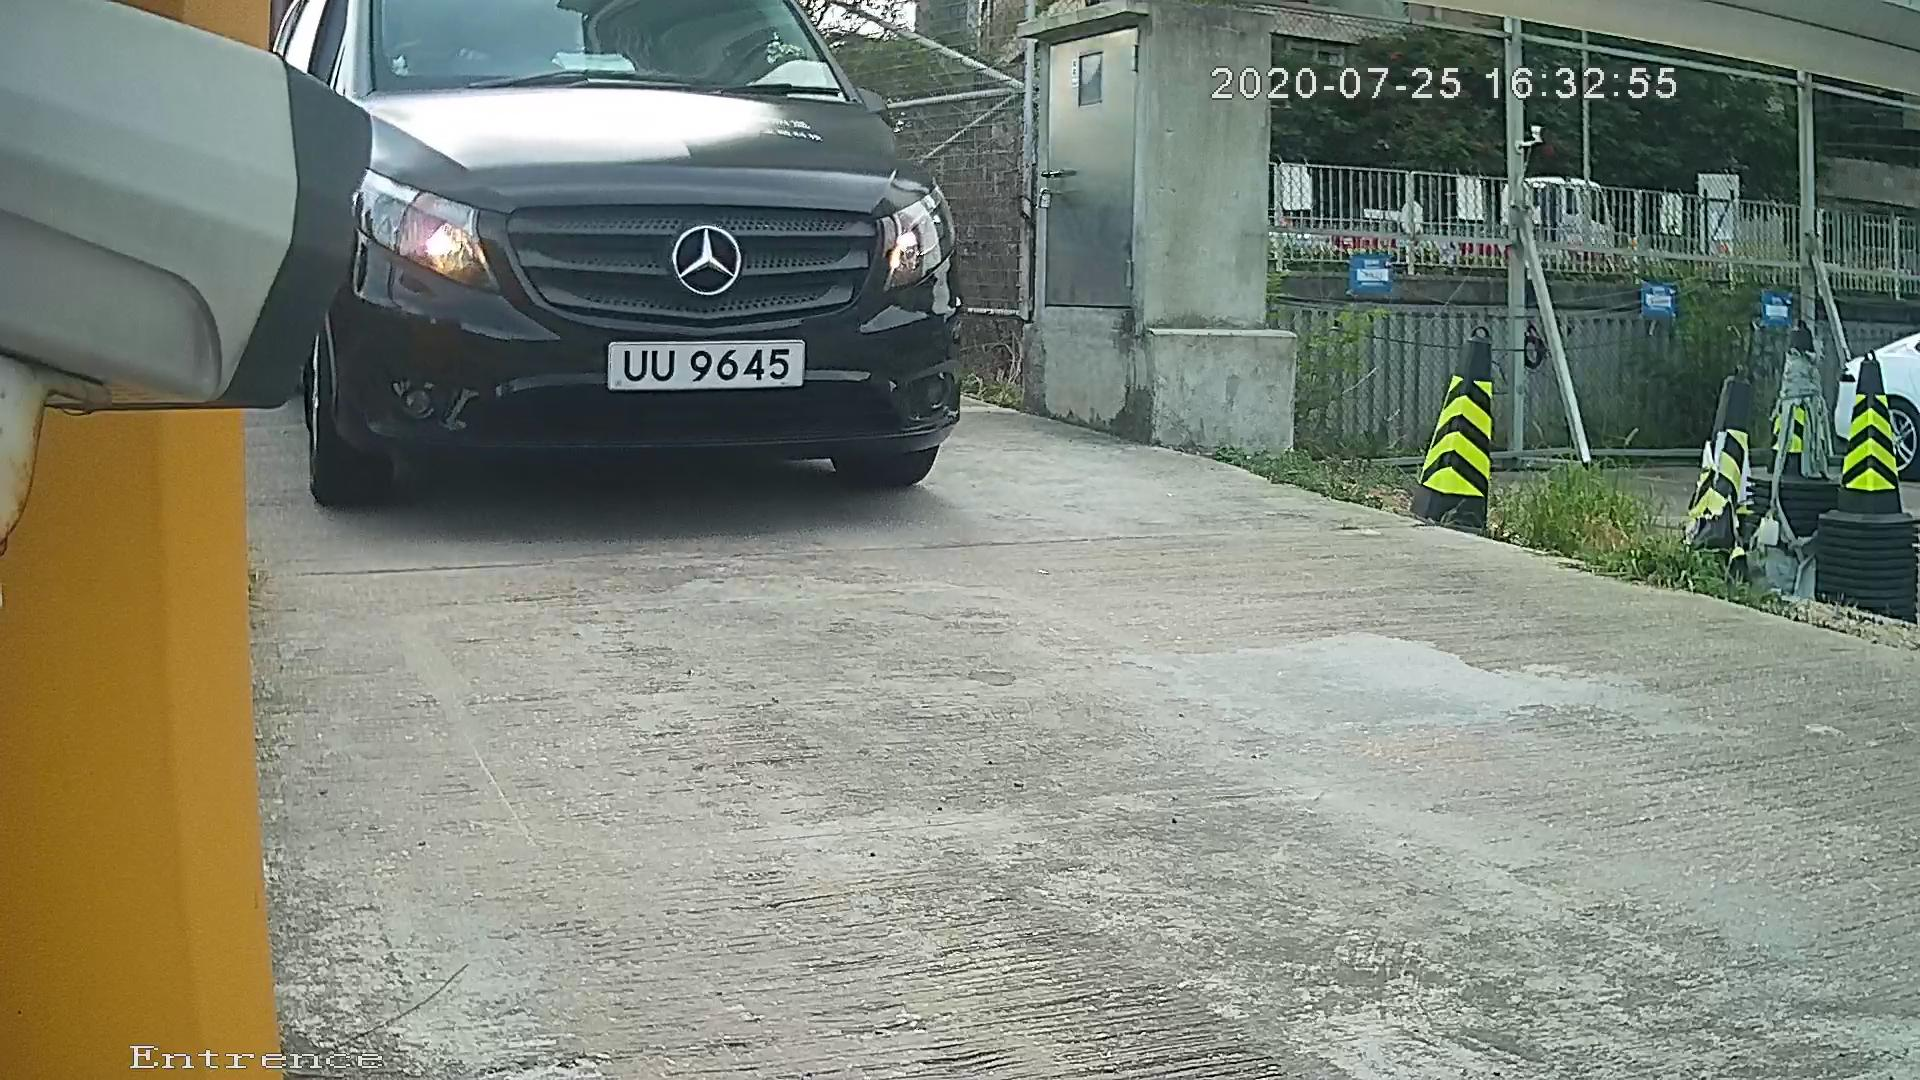Car: (249, 5, 1021, 516)
License Plate: (583, 324, 823, 396)
